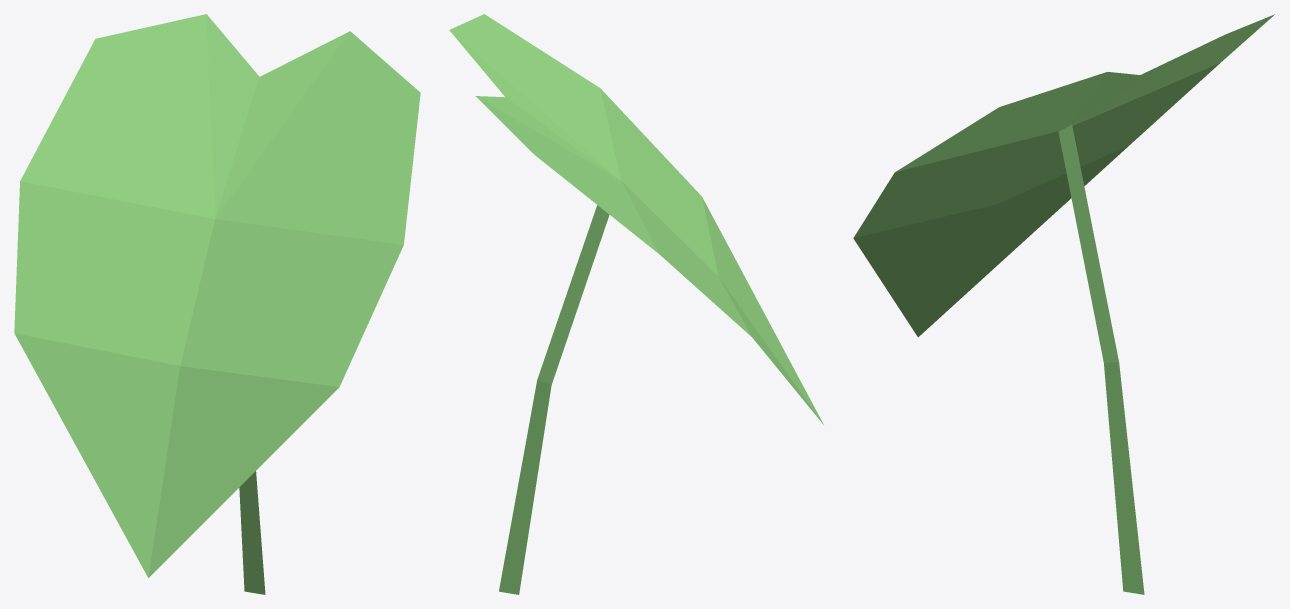
Rendered from Plant_d_OneS_02.fbx.
The picture shows the model from 3 angles, left to right: view 1: azimuth 30°, elevation 25°; view 2: azimuth 150°, elevation 25°; view 3: azimuth 270°, elevation 25°; orthographic projection. The views are drawn at different scales.
Visible parts, largest first — view 1: Plant_d_OneS_02; view 2: Plant_d_OneS_02; view 3: Plant_d_OneS_02.
Part boxes in pixels (x1,y1,x2,y2): Plant_d_OneS_02: [14, 14, 420, 594]; Plant_d_OneS_02: [449, 14, 823, 594]; Plant_d_OneS_02: [853, 14, 1274, 594].
Size of the model in its own units: 40.66 by 62.62 by 42.99.
